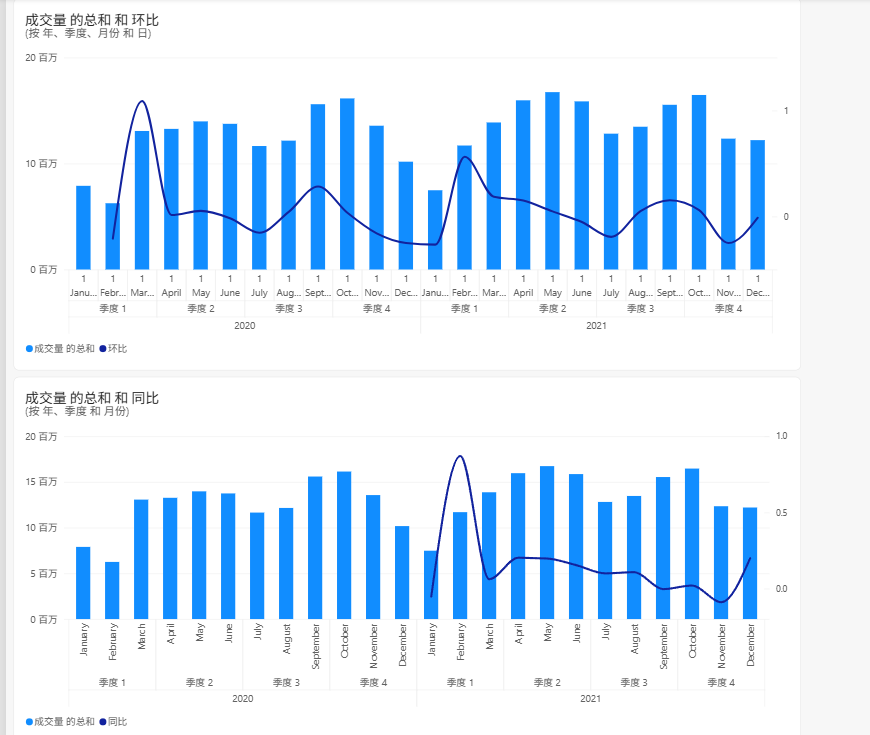

Layout of this report page (visuals, bound fields, positions):
{"tool":"powerbi","page":{"name":"同环比","canvas":[1920,1080],"ordinal":3},"visuals":[{"type":"lineStackedColumnComboChart","fields":{"Category":["年月.日期.Variation.日期层次结构.年","年月.日期.Variation.日期层次结构.季度","年月.日期.Variation.日期层次结构.月份","年月.日期.Variation.日期层次结构.日"],"Y":["Sum(孕妇装-孕产妇用品-营养行业数据.成交量)"],"Y2":["孕妇装-孕产妇用品-营养行业数据.环比"]},"box":[10.3,0,1140.3,539.3],"z":0},{"type":"lineStackedColumnComboChart","fields":{"Category":["年月.日期.Variation.日期层次结构.年","年月.日期.Variation.日期层次结构.季度","年月.日期.Variation.日期层次结构.月份","年月.日期.Variation.日期层次结构.日"],"Y":["Sum(孕妇装-孕产妇用品-营养行业数据.成交量)"],"Y2":["孕妇装-孕产妇用品-营养行业数据.同比"]},"box":[10,549,1140,531],"z":1000}]}

Visuals, with their boxes on the page's 1920x1080 design canvas (x1, y1, x2, y2). These are canvas units, not pixel positions in the 870x735 screenshot, which may show the page scaled, cropped or inside an application window:
lineStackedColumnComboChart - 年月.日期.Variation.日期层次结构.年 x 年月.日期.Variation.日期层次结构.季度: <box>10,0,1151,539</box>
lineStackedColumnComboChart - 年月.日期.Variation.日期层次结构.年 x 年月.日期.Variation.日期层次结构.季度: <box>10,549,1150,1080</box>
